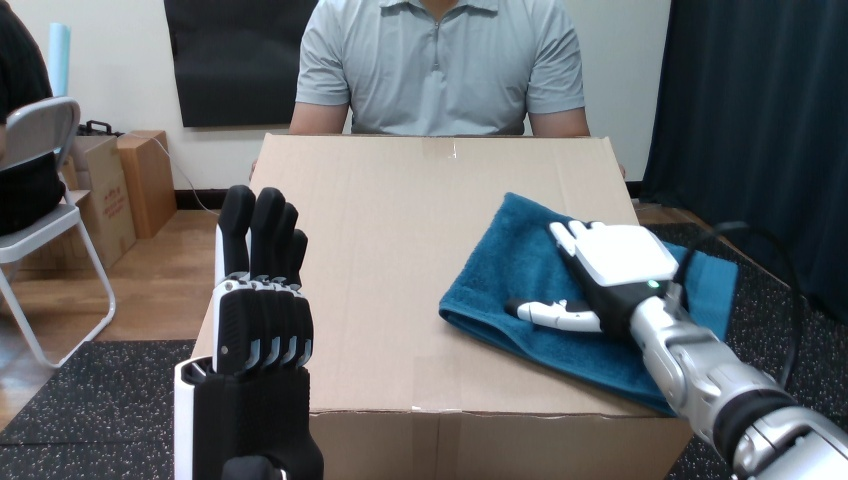left robot hand: (174, 185, 322, 479), (696, 237, 790, 377), (788, 299, 847, 431)
